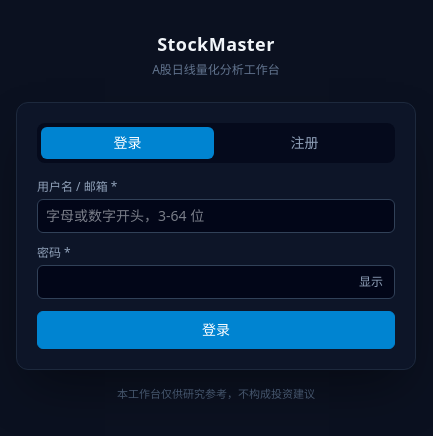
Test: 登录表单校验 › 空提交只提示必填，不发请求
The image size is (433, 436).
Click the button "登录": coordinates (216, 330) [37,311,395,349]
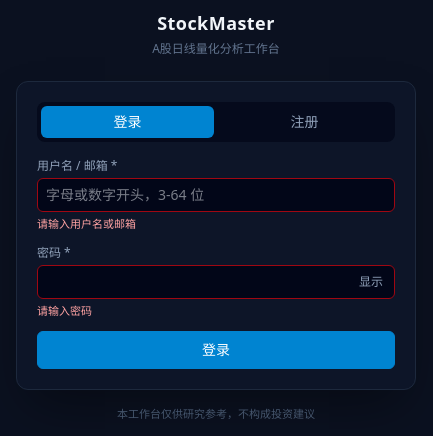
Result: the text "请输入用户名或邮箱" is shown at [37,216,136,231]
Result: the text "请输入密码" is shown at [37,303,92,318]
